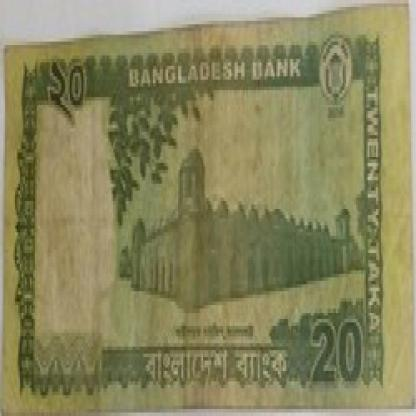Twenty: (304, 308, 368, 392), (43, 56, 105, 138)
